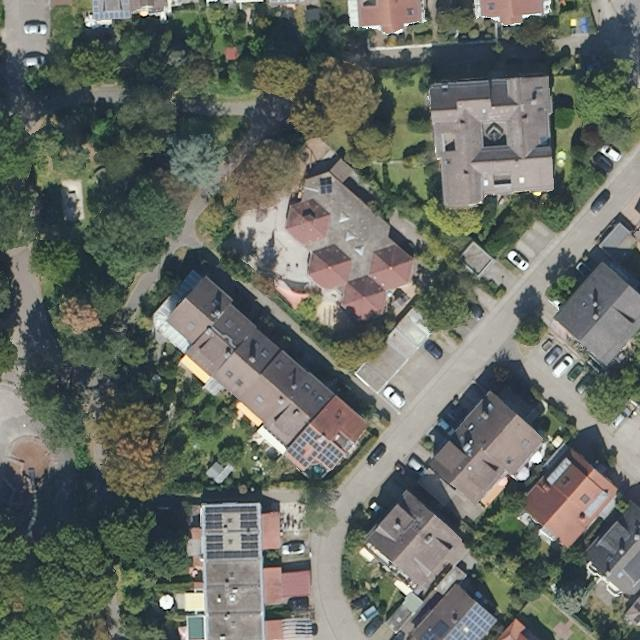PV: (283, 422, 348, 473), (441, 602, 498, 639), (204, 531, 261, 562), (202, 503, 262, 531), (89, 0, 132, 24), (317, 179, 334, 196)
